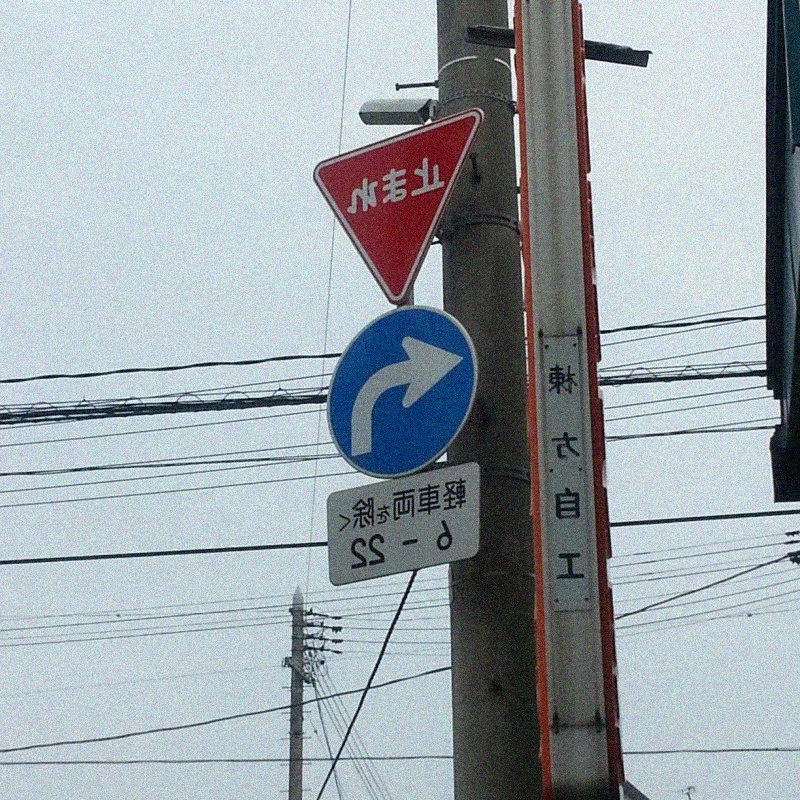Direction_sign: (316, 301, 493, 468)
